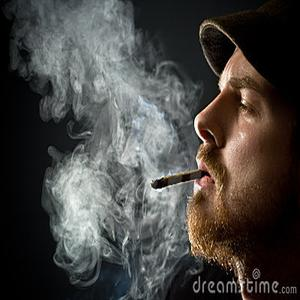cigarette: (149, 169, 201, 190)
